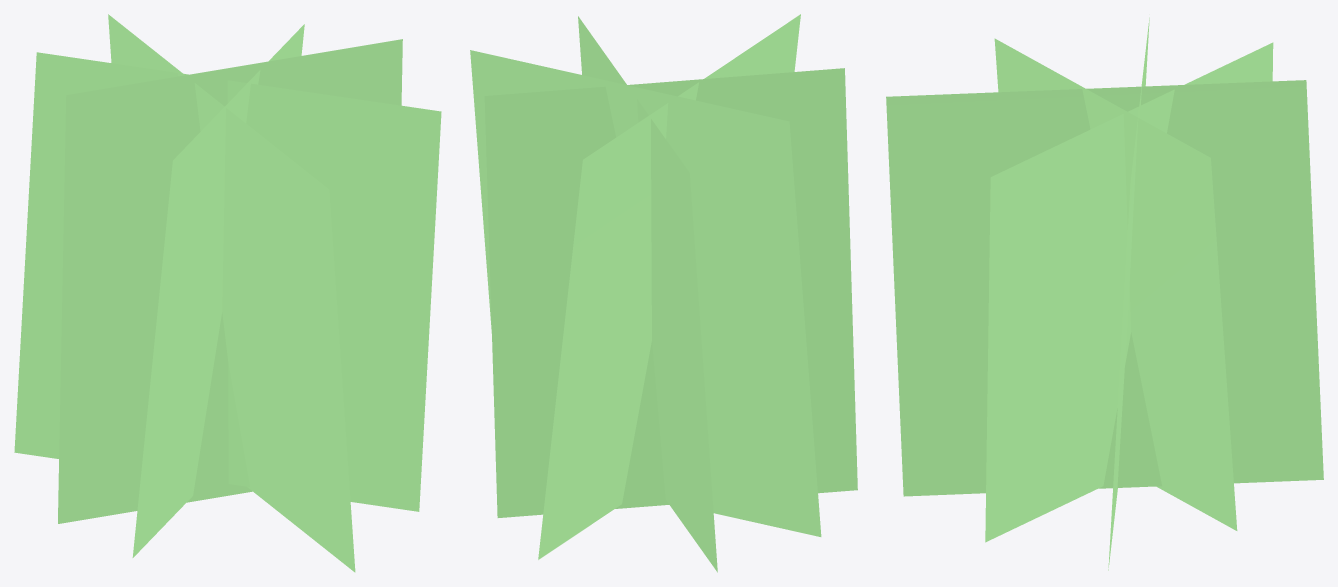
The model's file is GrassLeavesPLanes3.fbx.
The picture shows the model from 3 angles, left to right: view 1: azimuth 30°, elevation 25°; view 2: azimuth 150°, elevation 25°; view 3: azimuth 270°, elevation 25°; orthographic projection. The views are drawn at different scales.
Visible parts, largest first — view 1: GrassPlanes.003; view 2: GrassPlanes.003; view 3: GrassPlanes.003.
Part boxes in pixels (<box>): GrassPlanes.003: <box>14,14,441,572</box>; GrassPlanes.003: <box>470,14,857,572</box>; GrassPlanes.003: <box>886,17,1323,570</box>.
Bounding box in the file's own units: 204 × 179 × 213.
